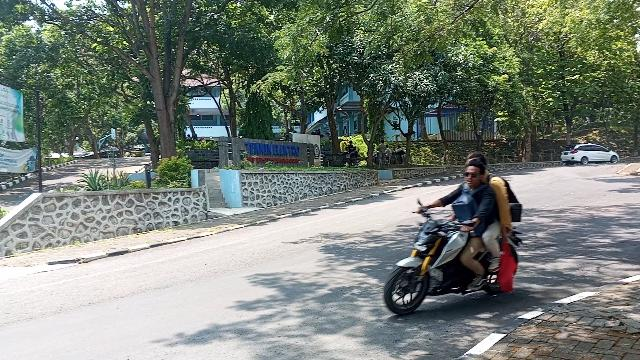motor: (386, 222, 524, 317)
non-helm: (466, 162, 486, 187)
